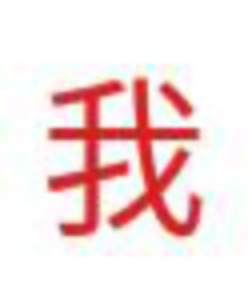TextView: (1, 1, 247, 307)
